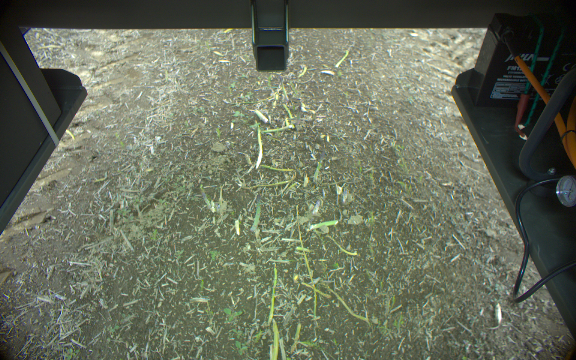aspa: (251, 124, 266, 170), (268, 267, 279, 327), (311, 151, 330, 184), (247, 193, 262, 230), (260, 121, 298, 134), (271, 319, 282, 360), (307, 219, 340, 230), (199, 186, 212, 210), (277, 76, 289, 101)
